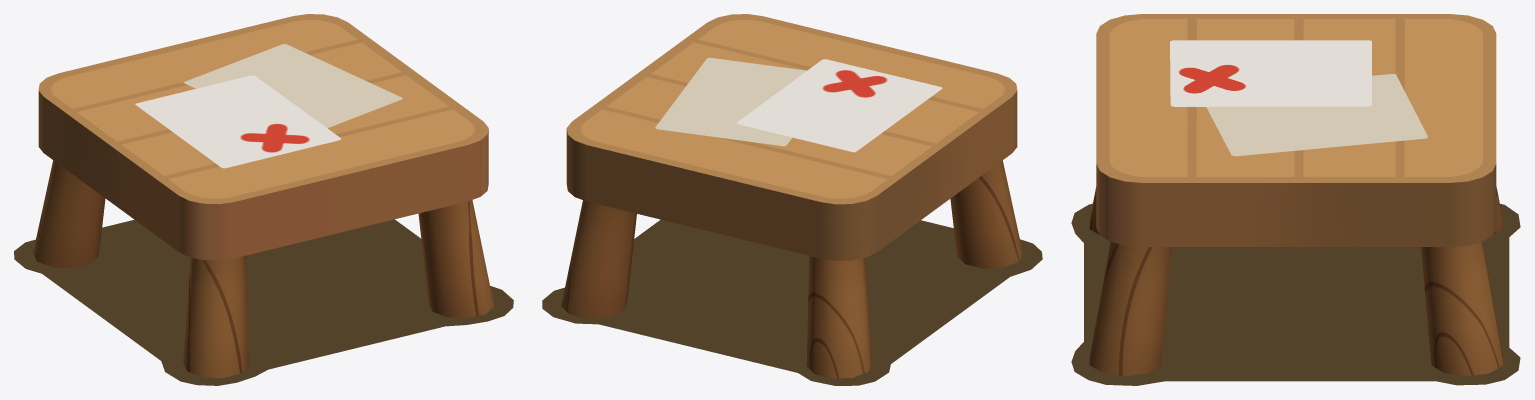
File: Mu_TinyTable.fbx
3 renders of one model, left to right at view 1: azimuth 30°, elevation 25°; view 2: azimuth 150°, elevation 25°; view 3: azimuth 270°, elevation 25°, orthographic. The views are drawn at different scales.
Visible parts, largest first — view 1: Mu_TinyTable_a, Mu_TinyTable_shadow, Mu_TinyTable_b; view 2: Mu_TinyTable_a, Mu_TinyTable_shadow, Mu_TinyTable_b; view 3: Mu_TinyTable_a, Mu_TinyTable_shadow, Mu_TinyTable_b.
Part boxes in pixels (x1=…): Mu_TinyTable_a: x1=33, y1=14, x2=493, y2=378; Mu_TinyTable_shadow: x1=14, y1=219, x2=513, y2=385; Mu_TinyTable_b: x1=135, y1=44, x2=402, y2=168; Mu_TinyTable_a: x1=561, y1=14, x2=1022, y2=378; Mu_TinyTable_shadow: x1=542, y1=219, x2=1042, y2=385; Mu_TinyTable_b: x1=655, y1=57, x2=942, y2=152; Mu_TinyTable_a: x1=1089, y1=14, x2=1502, y2=376; Mu_TinyTable_shadow: x1=1071, y1=203, x2=1520, y2=385; Mu_TinyTable_b: x1=1170, y1=40, x2=1427, y2=156.
Size of the model in its own units: 169 by 83.63 by 171.
2 materials, 1 textured.
